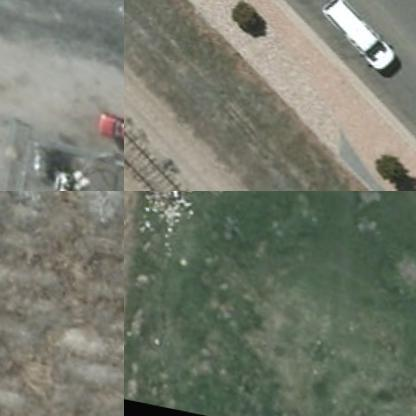car: (309, 0, 405, 68), (90, 105, 123, 148)
